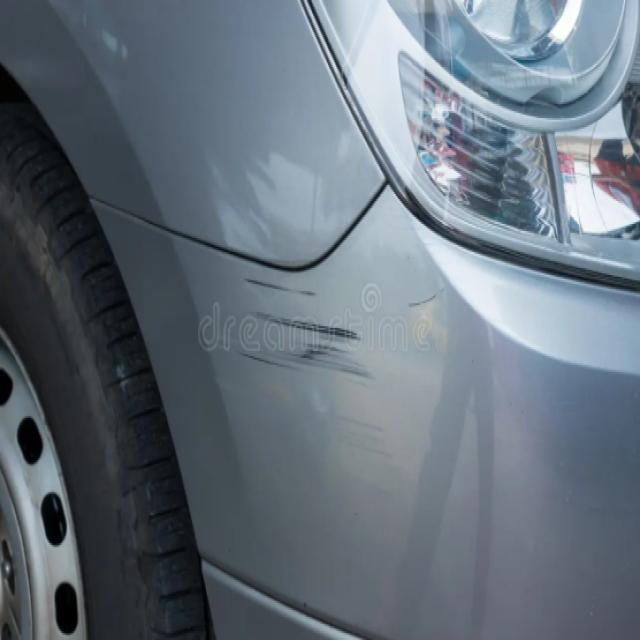scratch: (238, 272, 385, 400)
